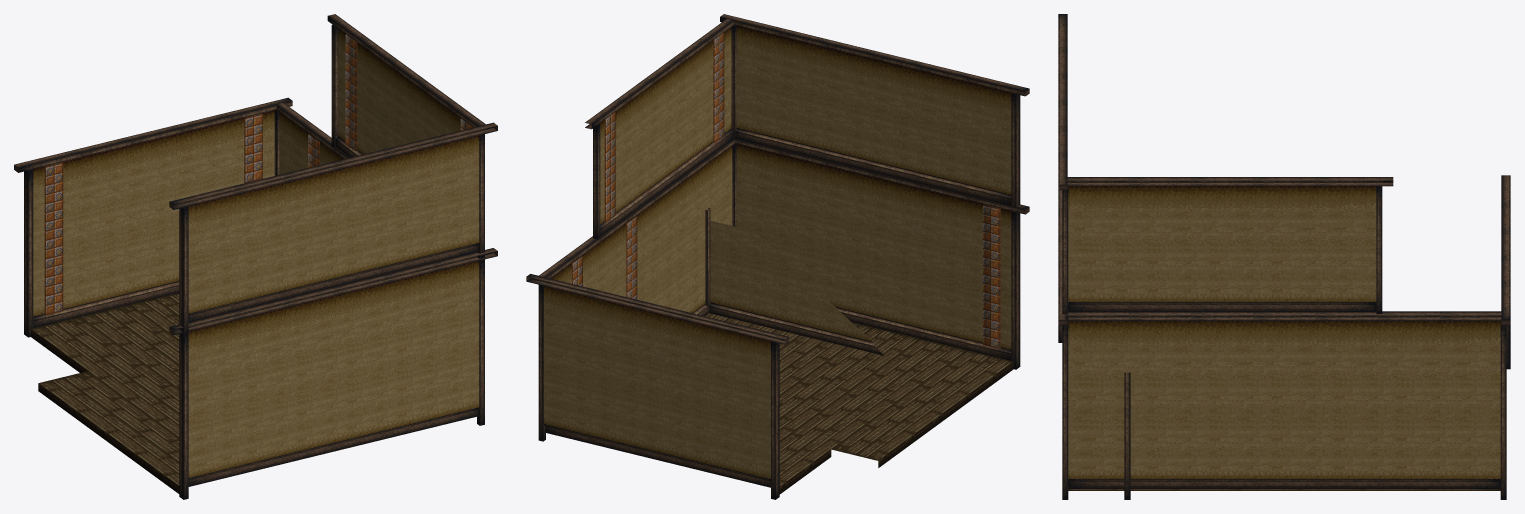
Rendered from EnvBdgMD_Sea_A_Indoor_House_F.FBX.
The picture shows the model from 3 angles, left to right: view 1: azimuth 30°, elevation 25°; view 2: azimuth 150°, elevation 25°; view 3: azimuth 270°, elevation 25°; orthographic projection. The views are drawn at different scales.
Parts seen in each view (by area): view 1: EnvBdgMD_Sea_A_Indoor_House_F; view 2: EnvBdgMD_Sea_A_Indoor_House_F; view 3: EnvBdgMD_Sea_A_Indoor_House_F.
Boxes of the visible parts, <box> form: EnvBdgMD_Sea_A_Indoor_House_F: <box>14,14,497,499</box>; EnvBdgMD_Sea_A_Indoor_House_F: <box>526,14,1029,499</box>; EnvBdgMD_Sea_A_Indoor_House_F: <box>1058,14,1510,499</box>.
Size of the model in its own units: 1300 by 1140 by 1455.
Materials: 1 (1 with a texture image).
